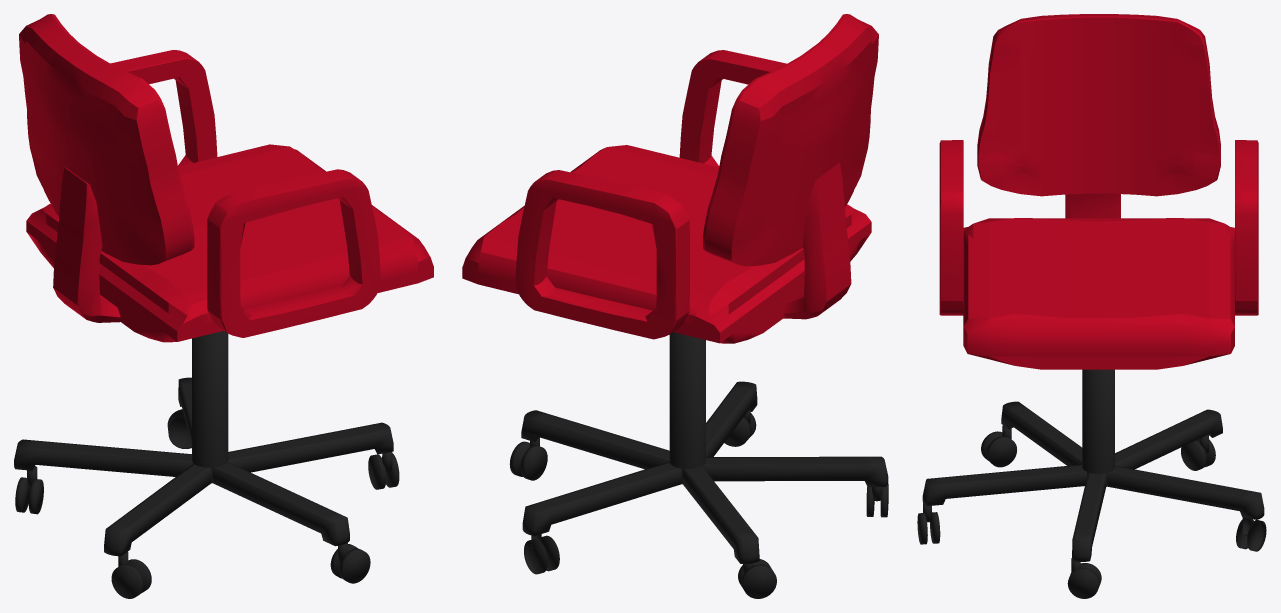
Rendered from hhh.glb.
The picture shows the model from 3 angles, left to right: view 1: azimuth 30°, elevation 25°; view 2: azimuth 150°, elevation 25°; view 3: azimuth 270°, elevation 25°; orthographic projection. The views are drawn at different scales.
Parts seen in each view (by area): view 1: 큐브.015, 실린더.001; view 2: 큐브.015, 실린더.001; view 3: 큐브.015, 실린더.001.
Part boxes in pixels (<box>): 큐브.015: <box>19,14,433,342</box>; 실린더.001: <box>14,331,399,598</box>; 큐브.015: <box>462,14,878,343</box>; 실린더.001: <box>509,332,888,598</box>; 큐브.015: <box>939,14,1258,369</box>; 실린더.001: <box>917,369,1266,598</box>.
Bounding box in the file's own units: 1.06 × 1.55 × 1.09.
